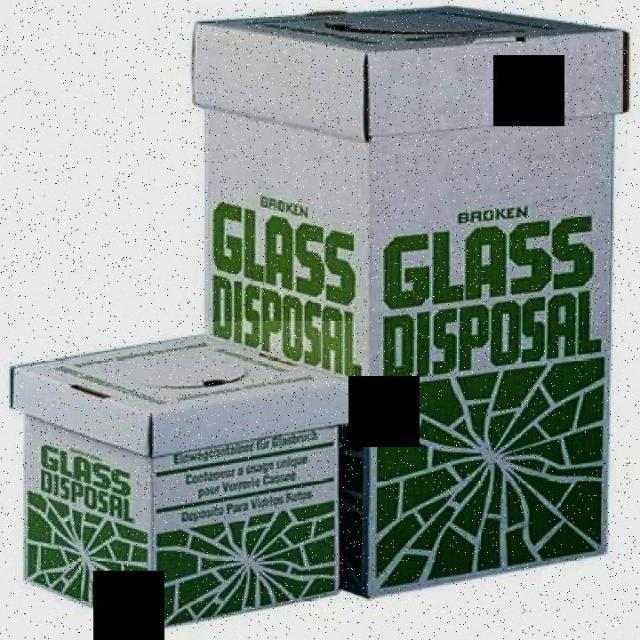box: (181, 7, 631, 619), (1, 320, 355, 630)
